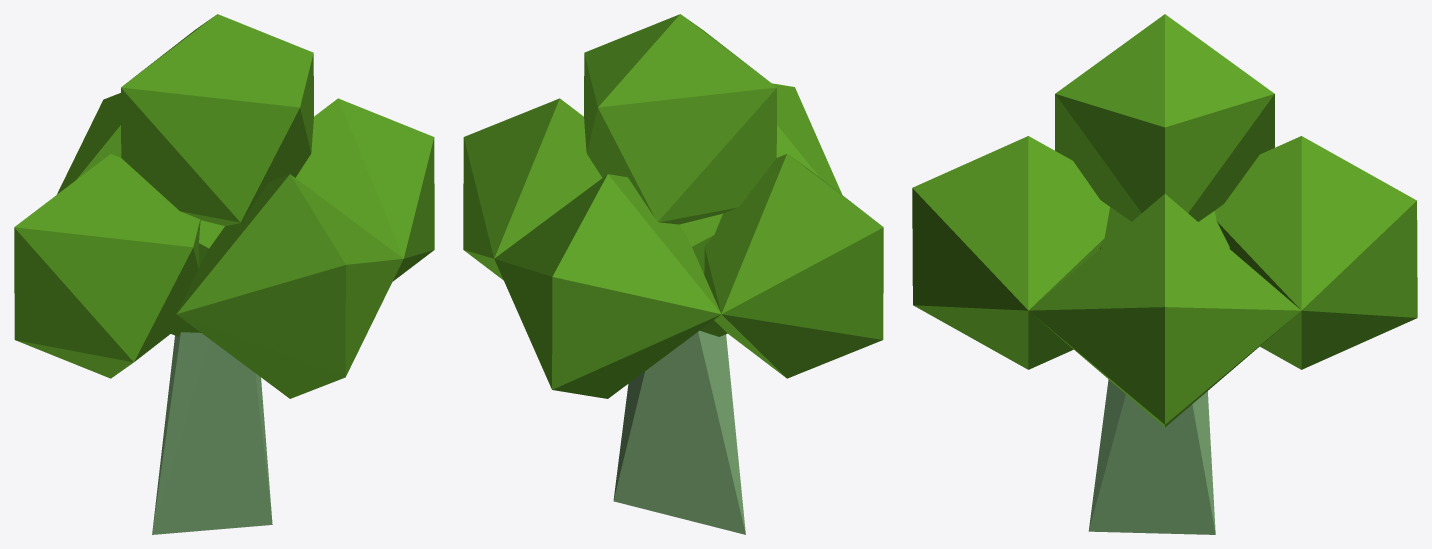
The model's file is Broccoli.fbx.
3 renders of one model, left to right at view 1: azimuth 30°, elevation 25°; view 2: azimuth 150°, elevation 25°; view 3: azimuth 270°, elevation 25°, orthographic. The views are drawn at different scales.
Visible parts, largest first — view 1: Broccoli; view 2: Broccoli; view 3: Broccoli.
Boxes of the visible parts, box(x1,y1,x2,y2) form: Broccoli: box(14, 14, 434, 534); Broccoli: box(463, 14, 883, 534); Broccoli: box(912, 14, 1417, 534).
Bounding box in the file's own units: 11.32 × 12.99 × 11.32.
